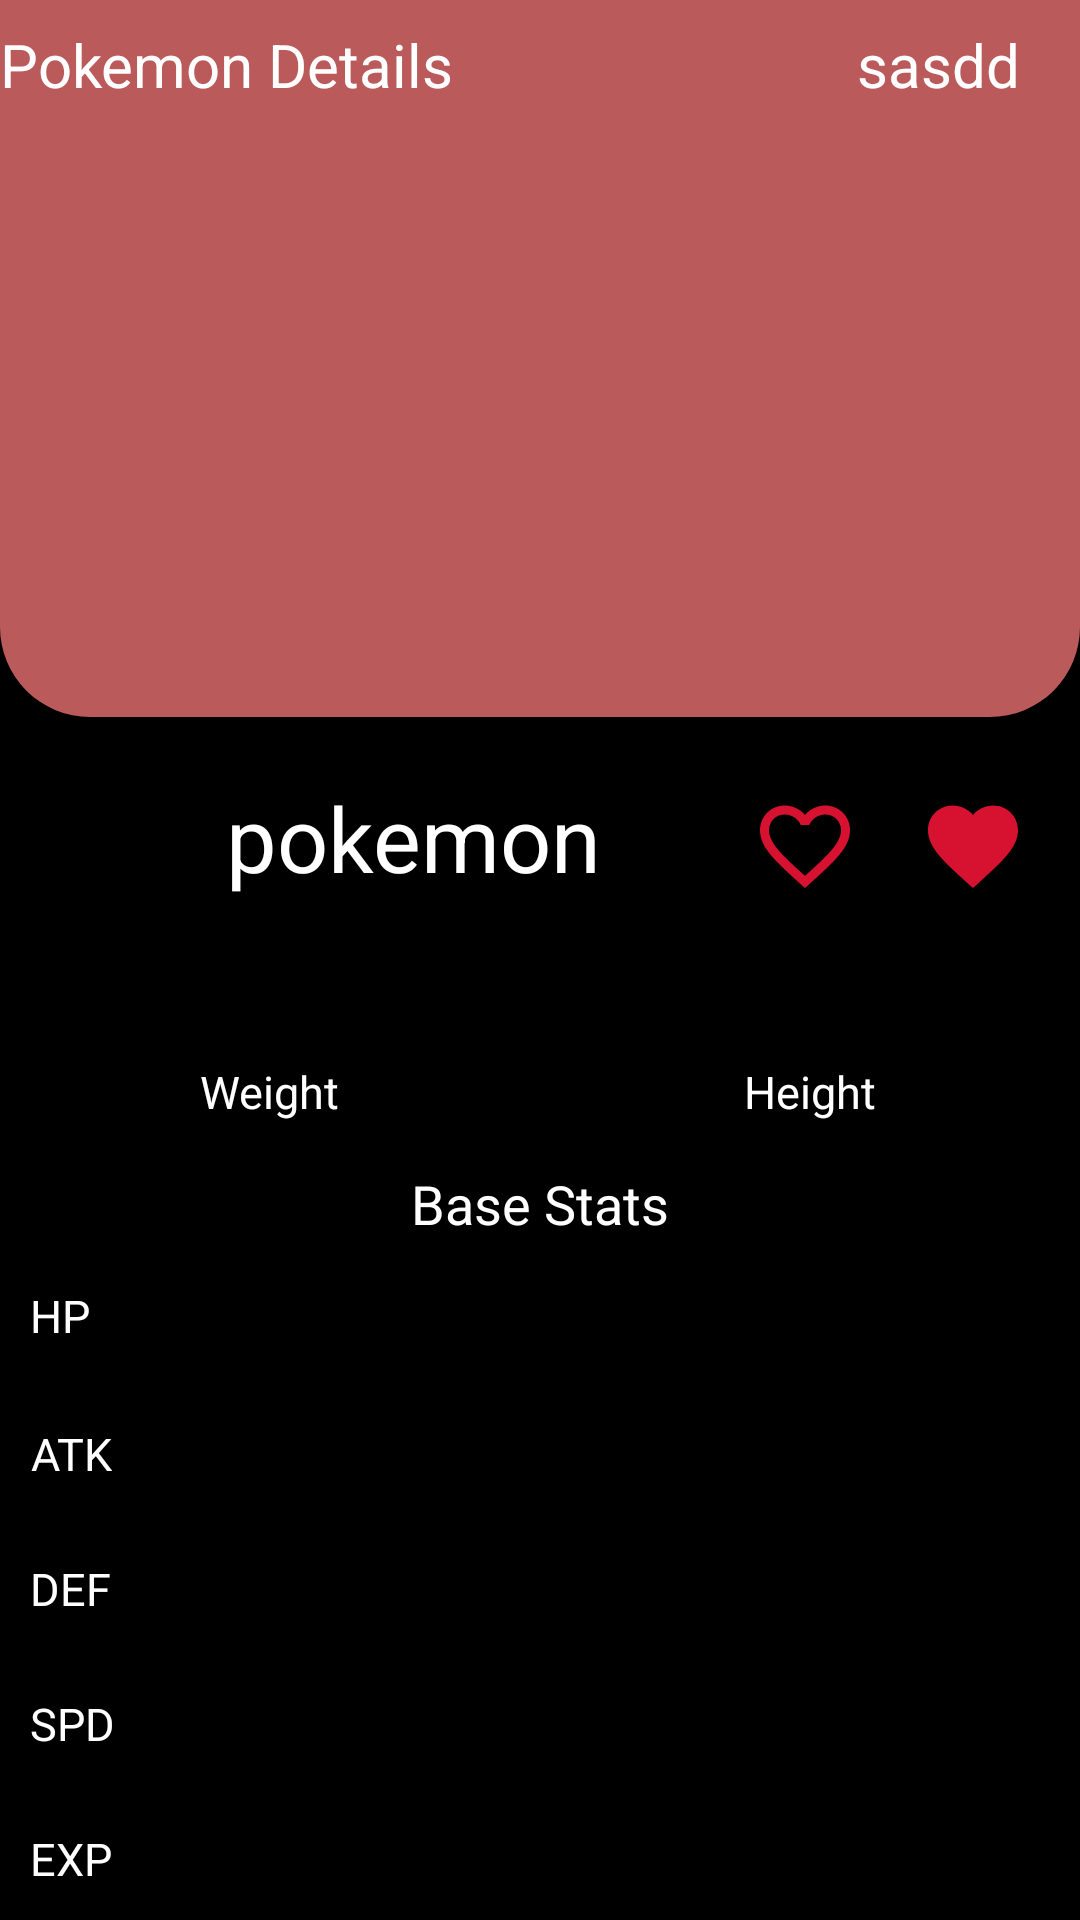

Locate icon controls on the screen. Image size 1080*1920, boxes as box=[x1, y1, x2, y2].
favorite: box=[928, 805, 1018, 888]
favorite border: box=[760, 805, 850, 888]
